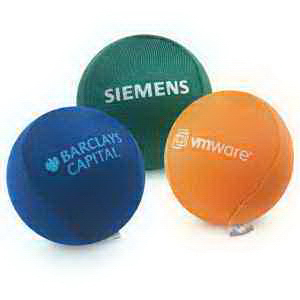blue ball: (6, 106, 146, 245)
